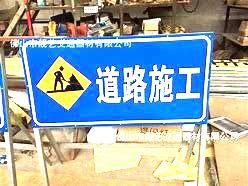sign: (22, 42, 207, 122)
